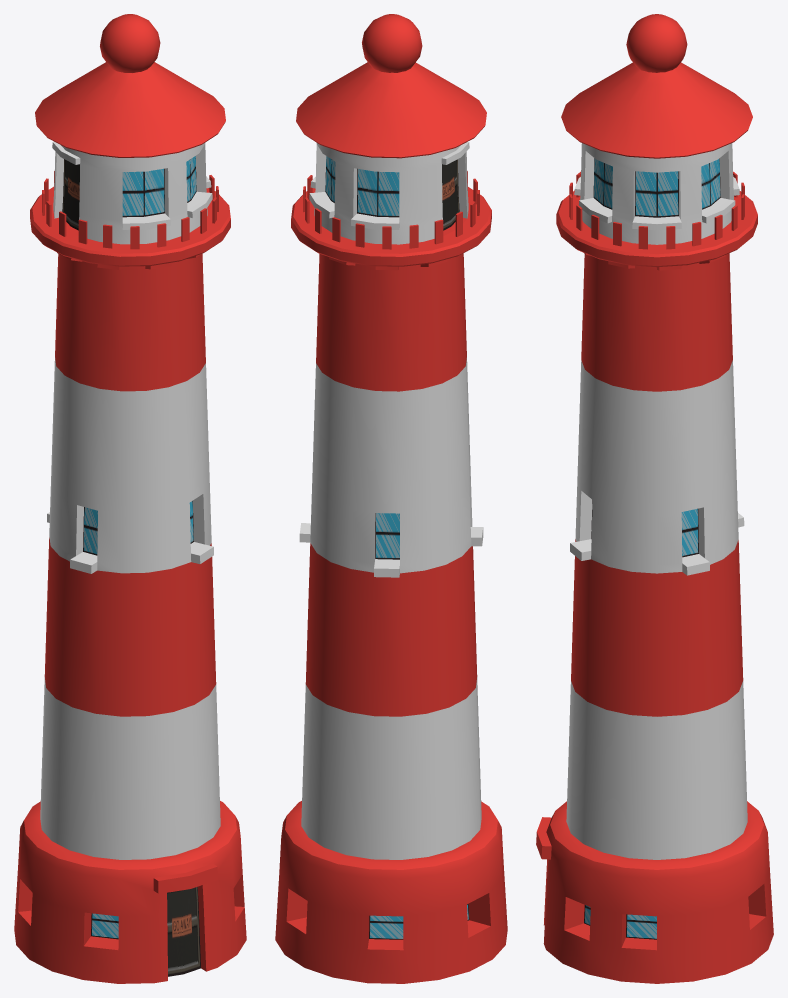
The model's file is Lighthouse.fbx.
3 views of the same model, side by side, from view 1: azimuth 30°, elevation 25°; view 2: azimuth 150°, elevation 25°; view 3: azimuth 270°, elevation 25° (orthographic).
Visible parts, largest first — view 1: Lighthouse; view 2: Lighthouse; view 3: Lighthouse.
Boxes of the visible parts, x1=… form: Lighthouse: x1=14, y1=14, x2=246, y2=983; Lighthouse: x1=275, y1=14, x2=507, y2=983; Lighthouse: x1=536, y1=14, x2=773, y2=983.
Bounding box in the file's own units: 8.04 × 34.86 × 8.18.
